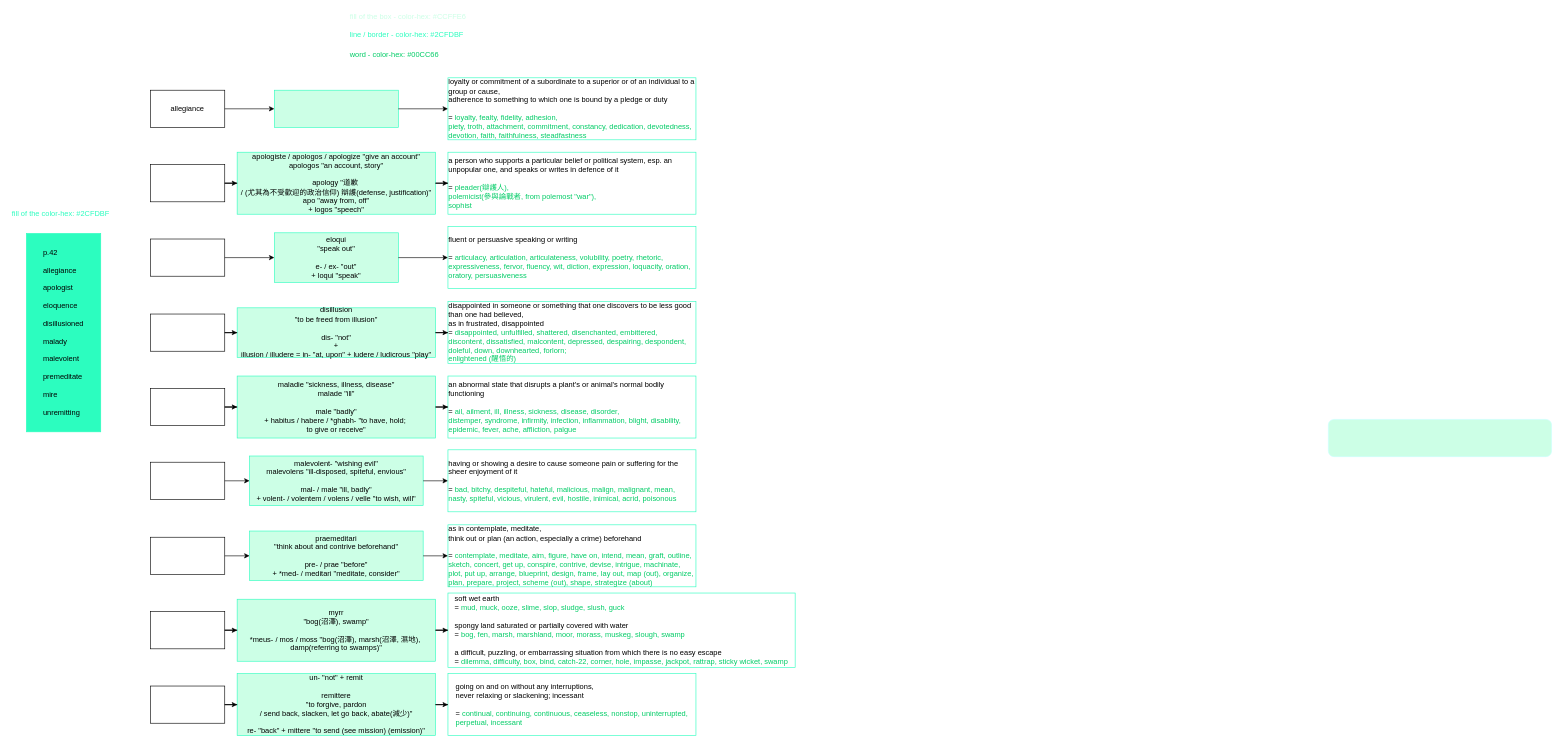
Image size: 1562x746. Some labels were removed from this diagram. The shapes that lost their labels are listed below. From the top down, each one's box as (x1, y1, x2, y2) in pixels, then its label:
(274, 90, 398, 127): ligeance " loyalty of a liege-man to his lord " lige- / liege "alliance, allay"
(150, 164, 225, 202): apologist
(150, 238, 225, 276): eloquence
(150, 313, 225, 351): disillusioned
(150, 388, 225, 426): malady
(1328, 419, 1552, 457): log transformation
(150, 462, 225, 499): malevolent
(150, 537, 225, 574): premeditate
(150, 611, 225, 649): mire
(150, 685, 225, 723): unremitting
